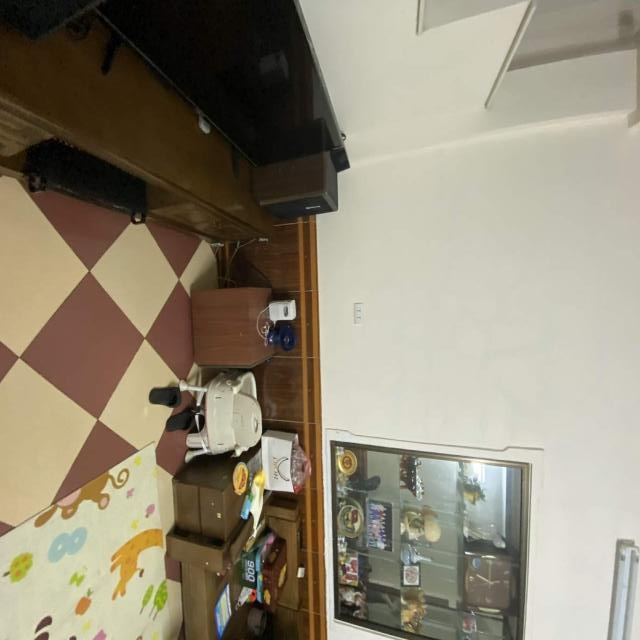outlet: (354, 302, 364, 325)
